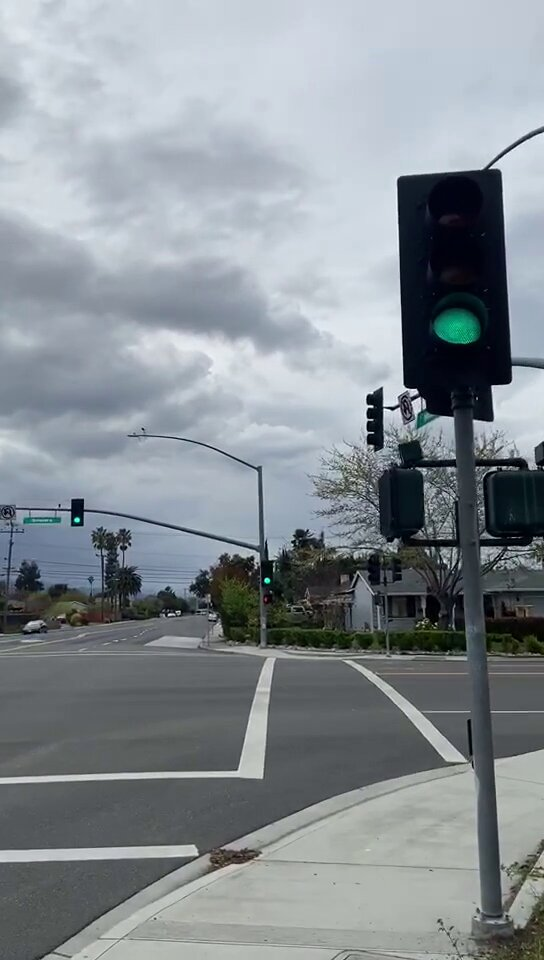green_light: (405, 179, 501, 377), (263, 560, 272, 586), (72, 500, 82, 523)
